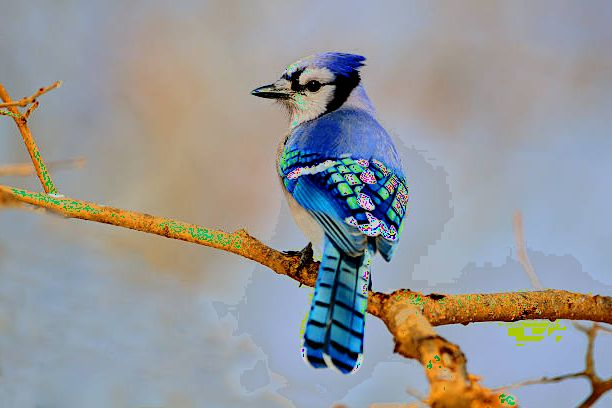Bird: (246, 46, 411, 377)
